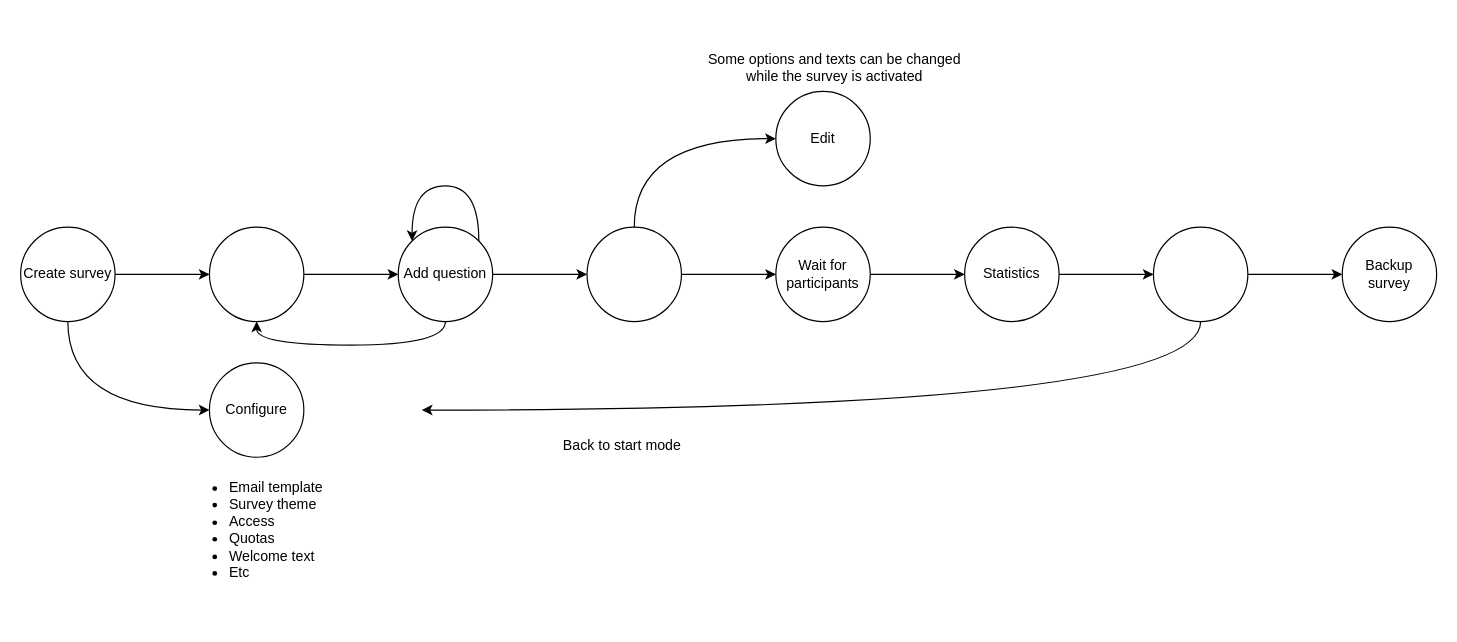
This 1457x642 diagram has some shape labels left out. The centre of each missing label's shape, as x and y in pixels:
"Activate" belongs at pixel 633 274.
"Add group" belongs at pixel 256 274.
"Deactivate survey" belongs at pixel 1200 274.
